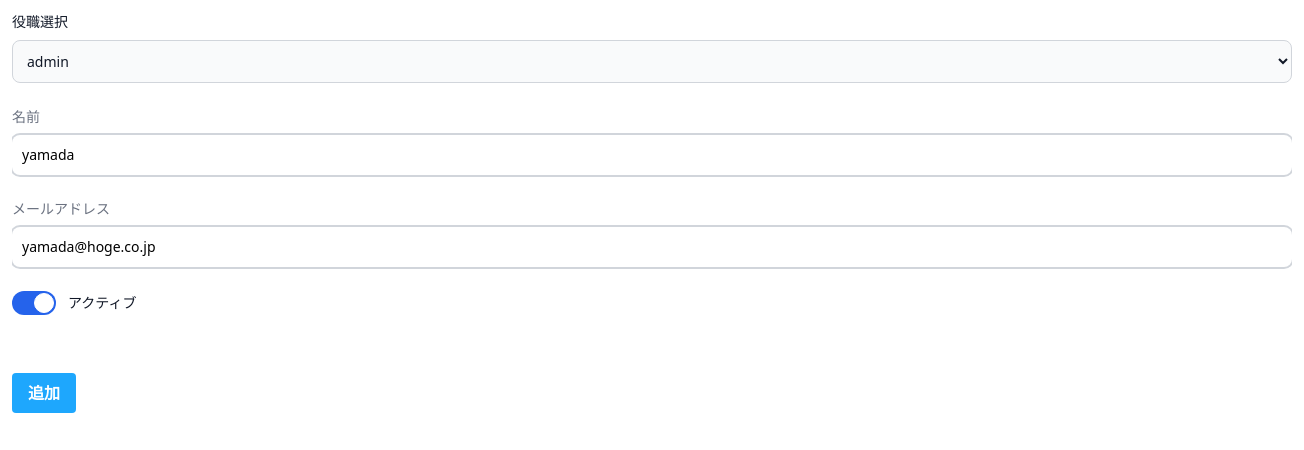
Test case: メンバー追加Formのテスト › 名前が2文字以下で追加ボタンをクリックするとエラーメッセージが表示されること
Replace the text in the field labelled "名前" with "a" at [652, 155], box x1=12 y1=135 x2=1292 y2=175
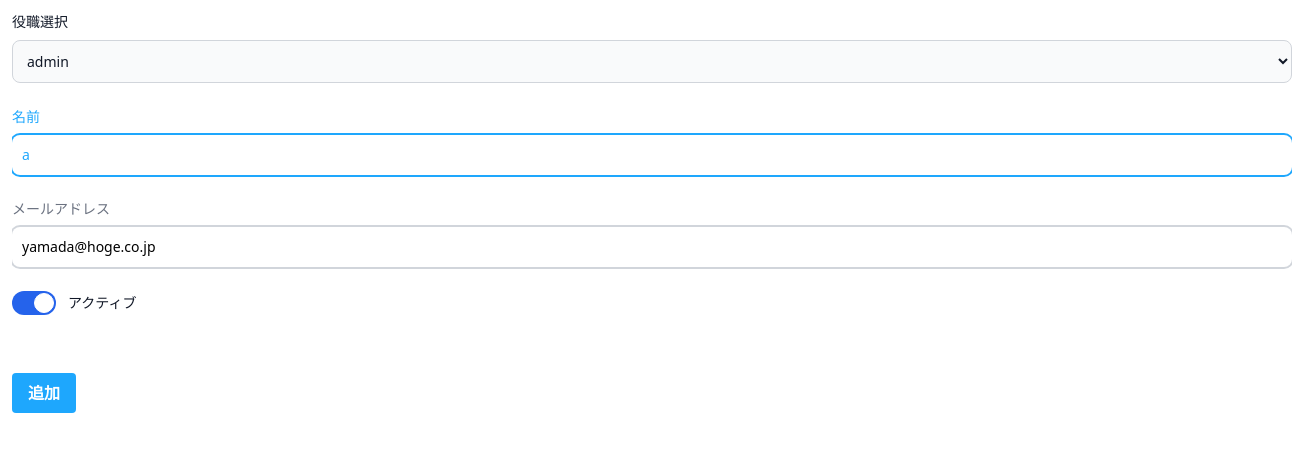
Click the button "追加" at [44, 393], box x1=12 y1=373 x2=76 y2=413
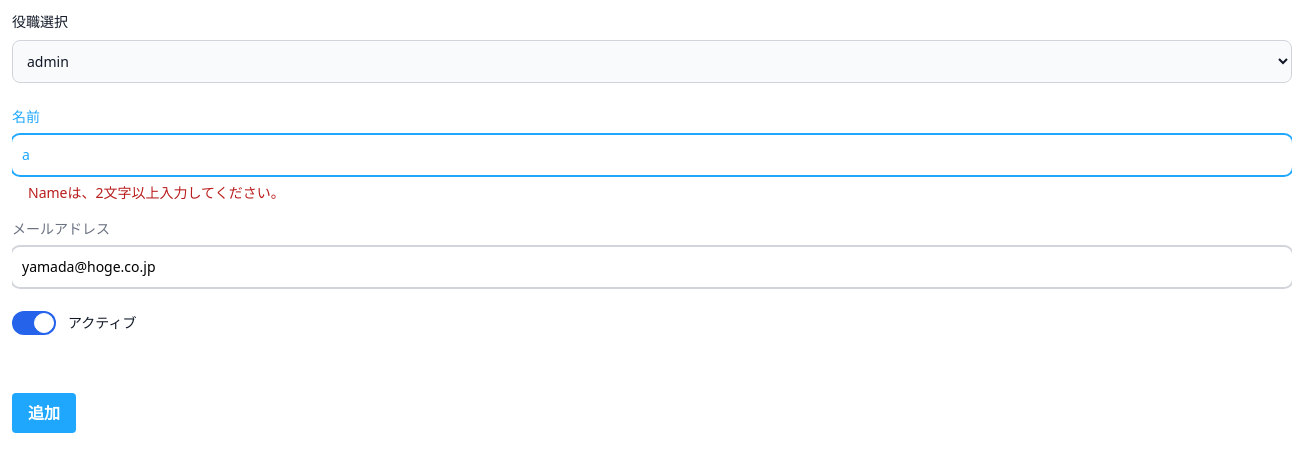
Expected: the text "Nameは、2文字以上入力してください。" is shown, x1=28 y1=183 x2=285 y2=202
